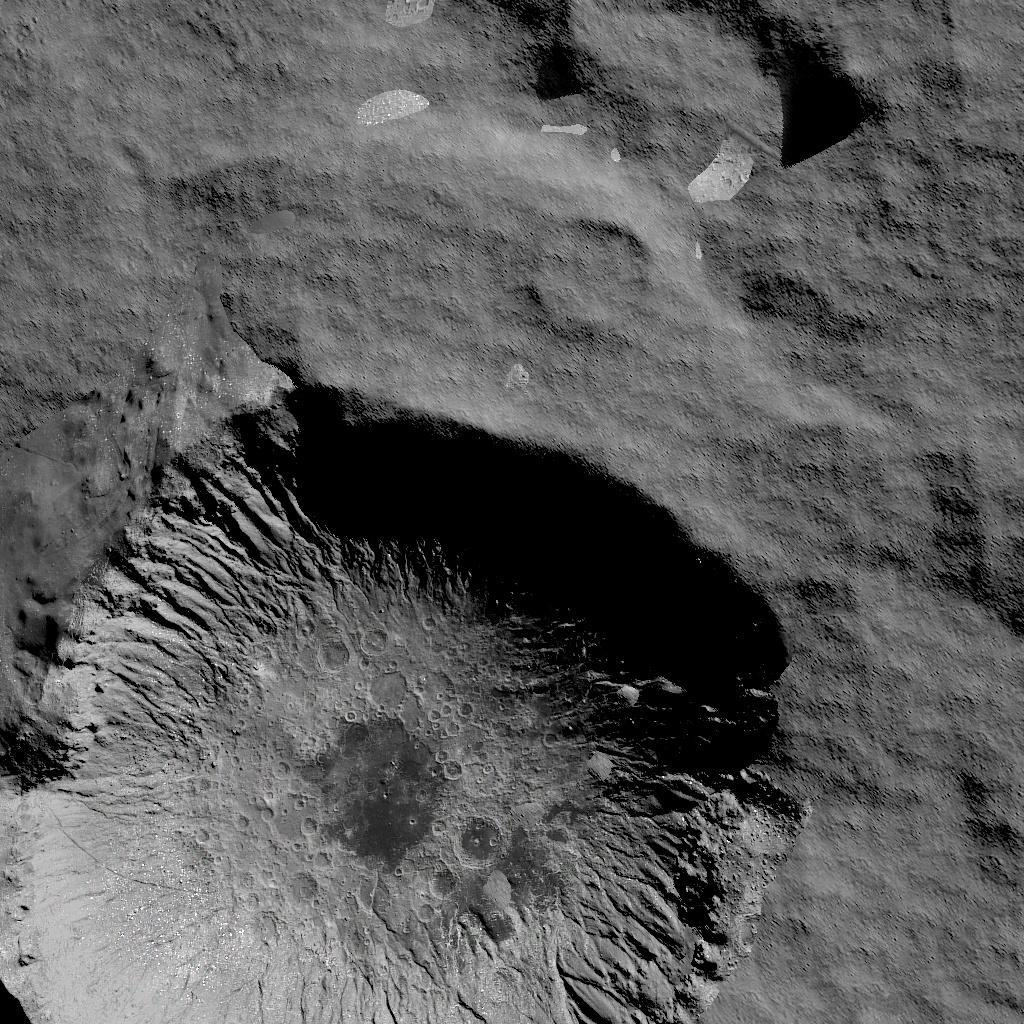Crater: (1, 380, 808, 1024), (531, 190, 674, 342)
Plan surface: (0, 0, 482, 363)
